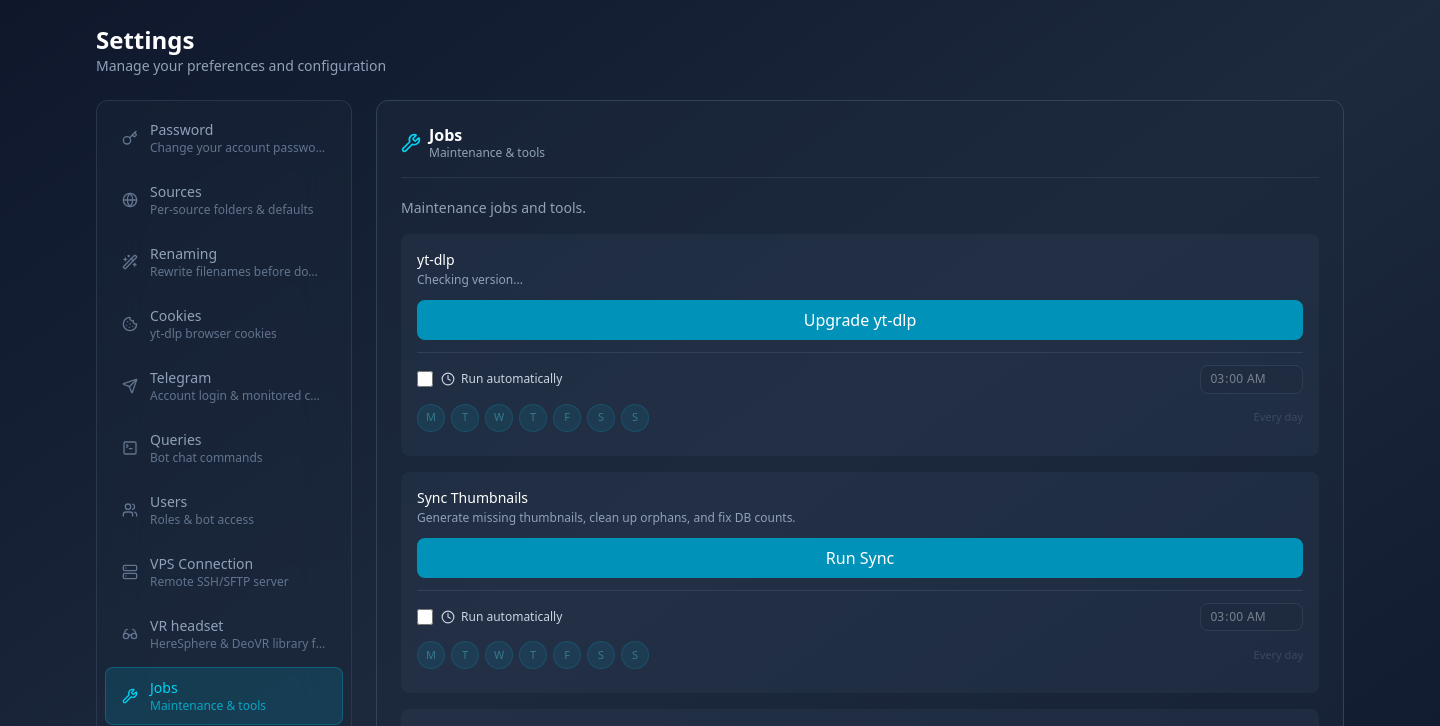
Test: SettingsPage - jobs › upgrading yt-dlp toasts the version change, "up to date", or the error
This screenshot has width=1440, height=726.
Later steps or results of the test are not shown.
What coordinates should you click on to do the following:
click the button "Upgrade yt-dlp"
I would click on:
 (860, 320)
Its box is [417,300,1303,340].
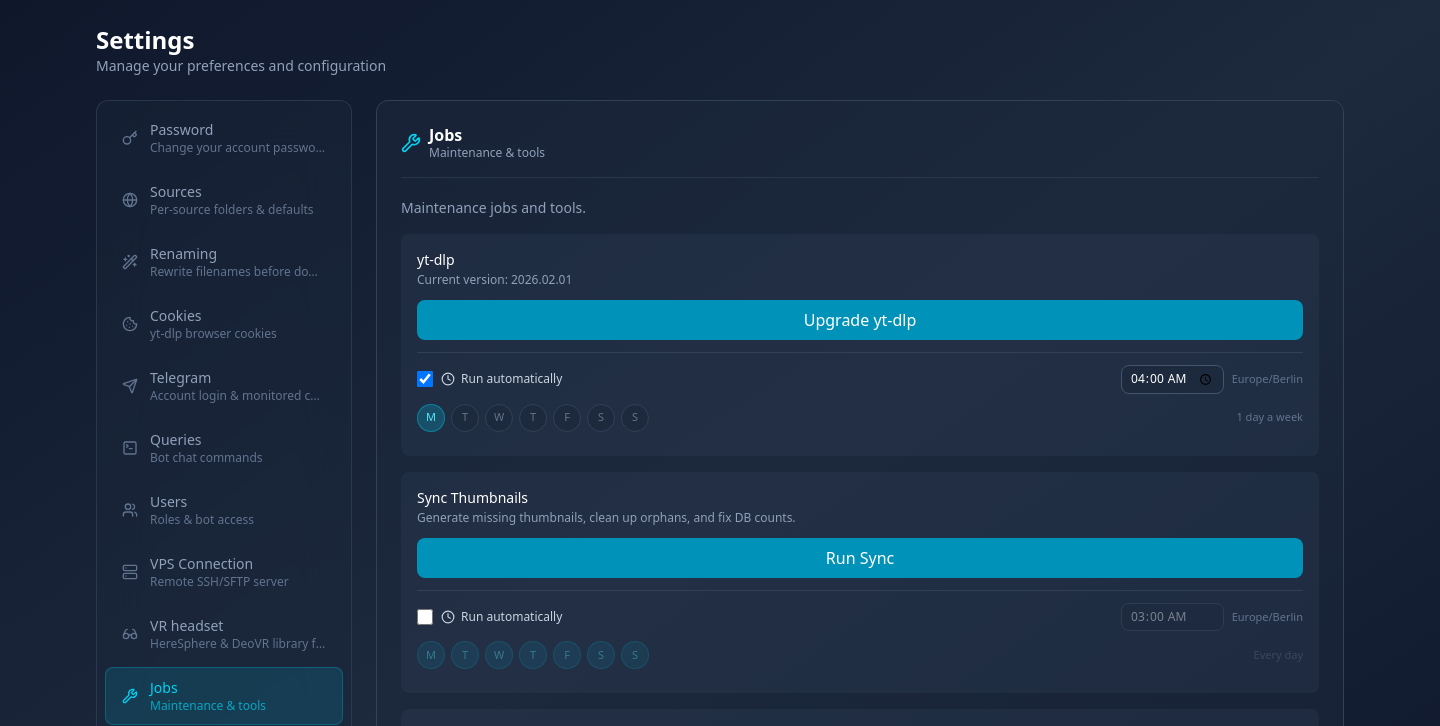
Check: the text "Current version: 2026.02.01" is shown, box [417,272,572,288]
